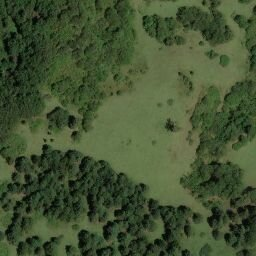forest: (1, 1, 130, 63), (40, 1, 102, 102), (1, 1, 39, 117), (41, 151, 88, 219), (191, 163, 243, 199), (88, 174, 133, 208), (223, 94, 256, 138), (143, 16, 178, 40), (176, 8, 211, 29), (202, 18, 231, 43)
